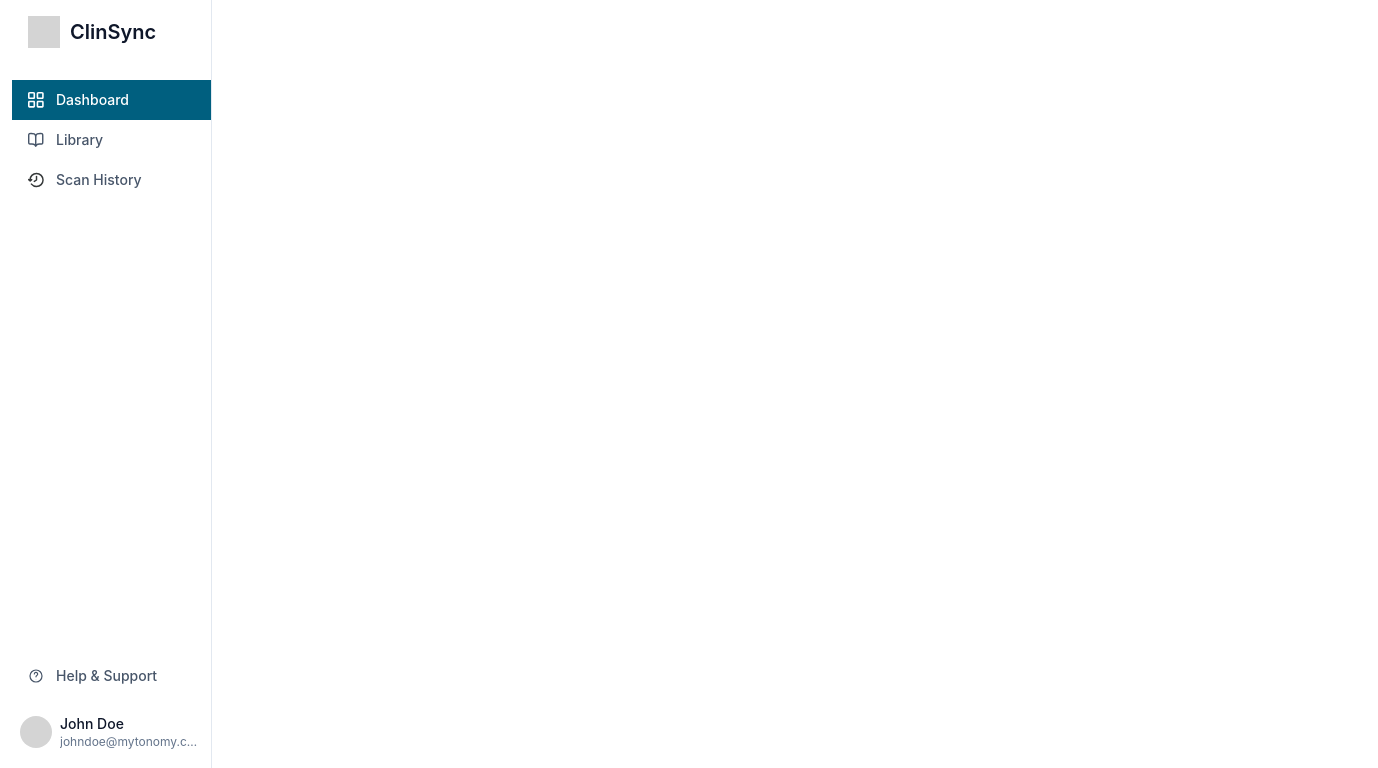
Scenario: Sidebar › opens the account menu and closes it from Settings or the backdrop
Click the button titled "Account": x=112, y=732 [12, 708, 211, 756]
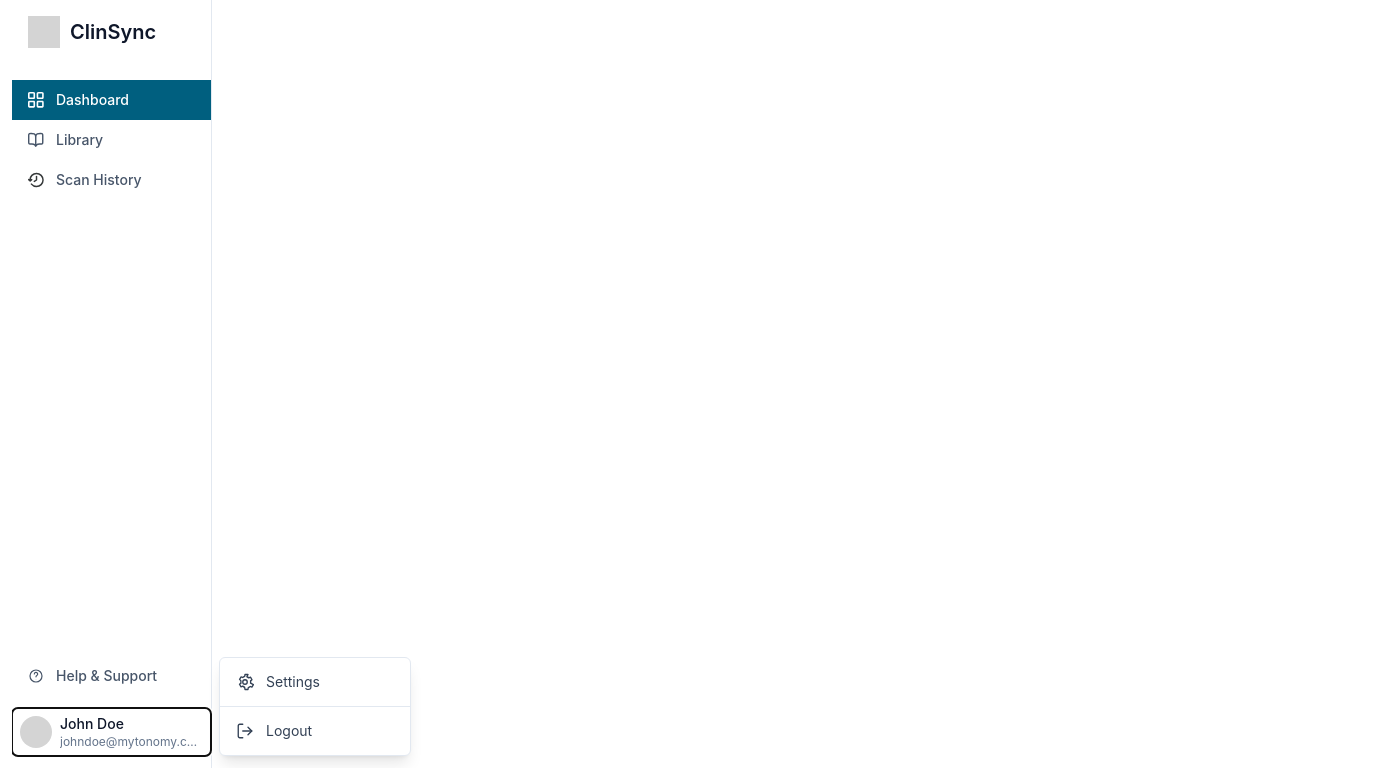
Click the link "Settings": x=278, y=682 [236, 673, 320, 691]
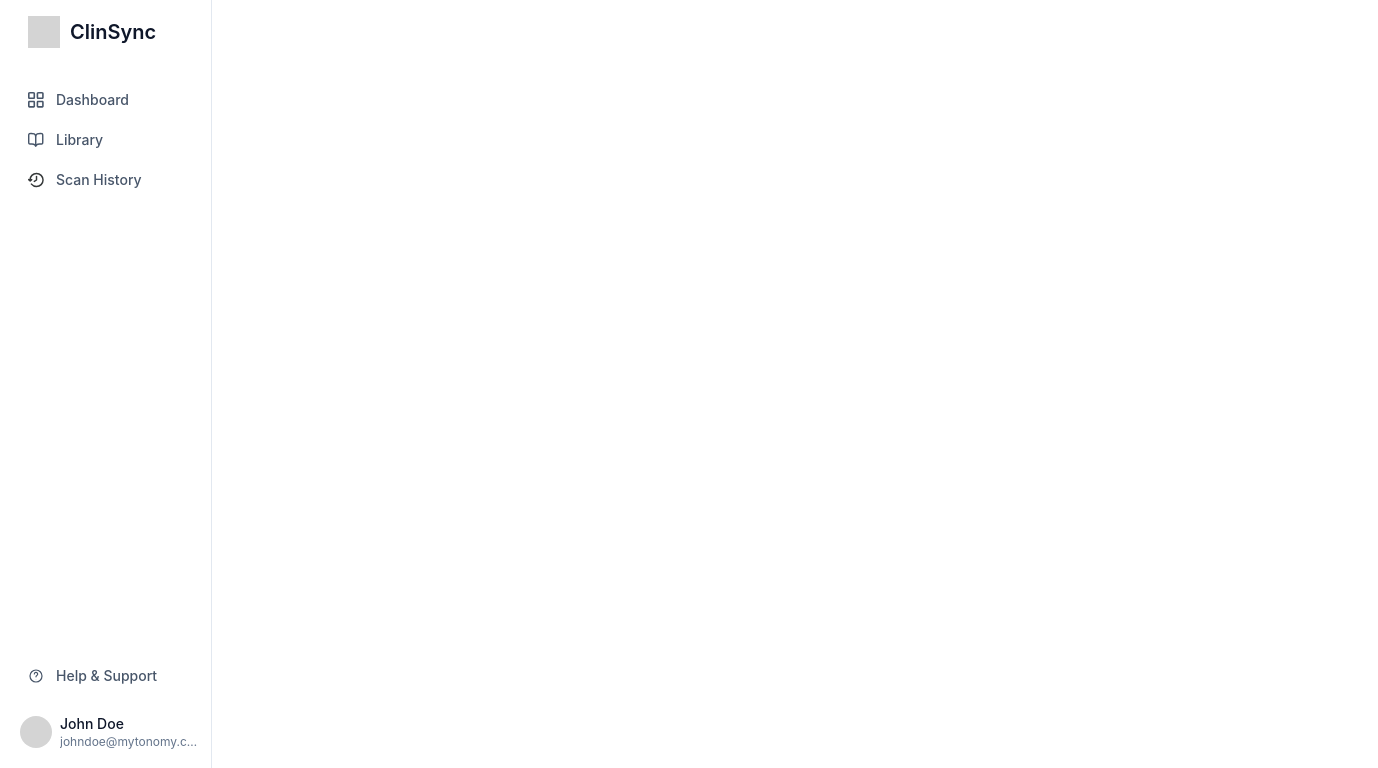
Now the link "Settings" is gone
Click the button titled "Account": x=112, y=732 [12, 708, 211, 756]
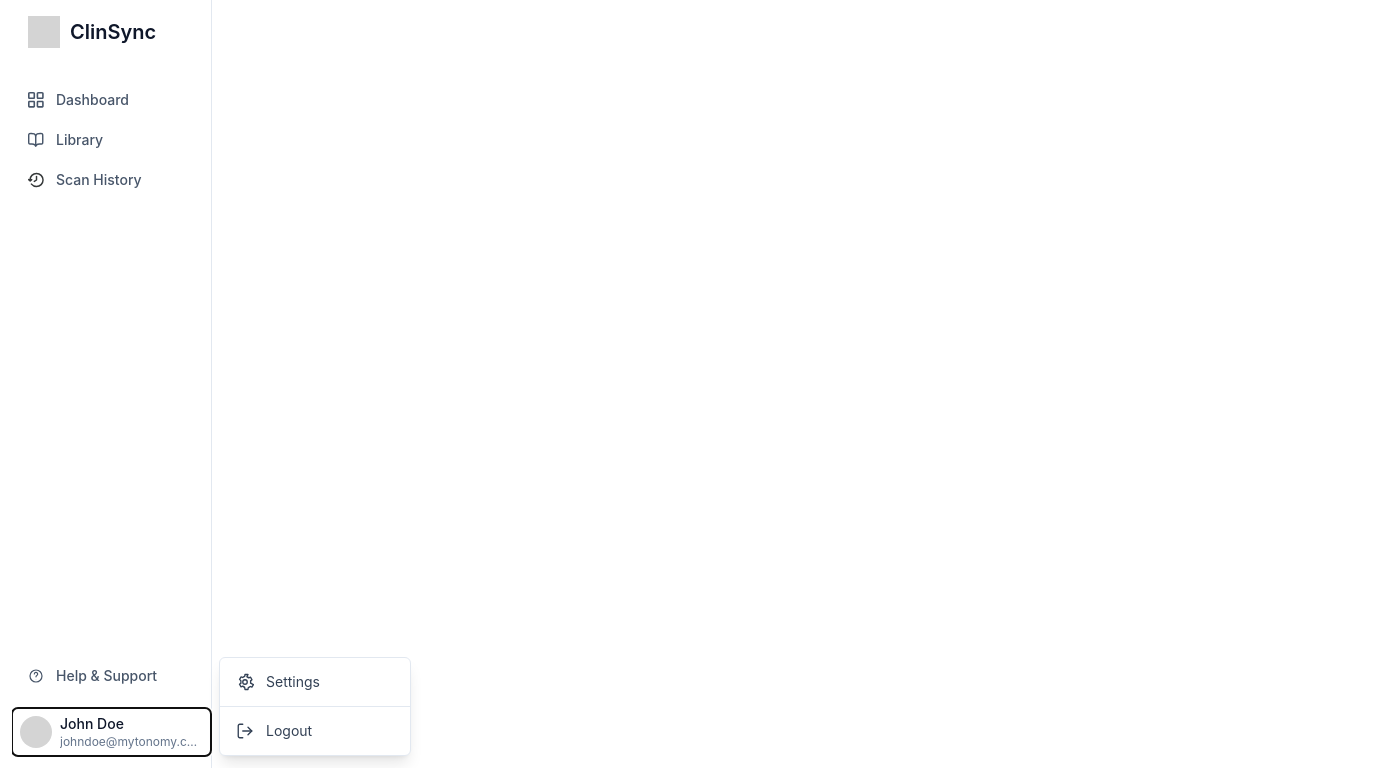
Click the element with class "inset-0": x=695, y=384 [12, 0, 1377, 767]
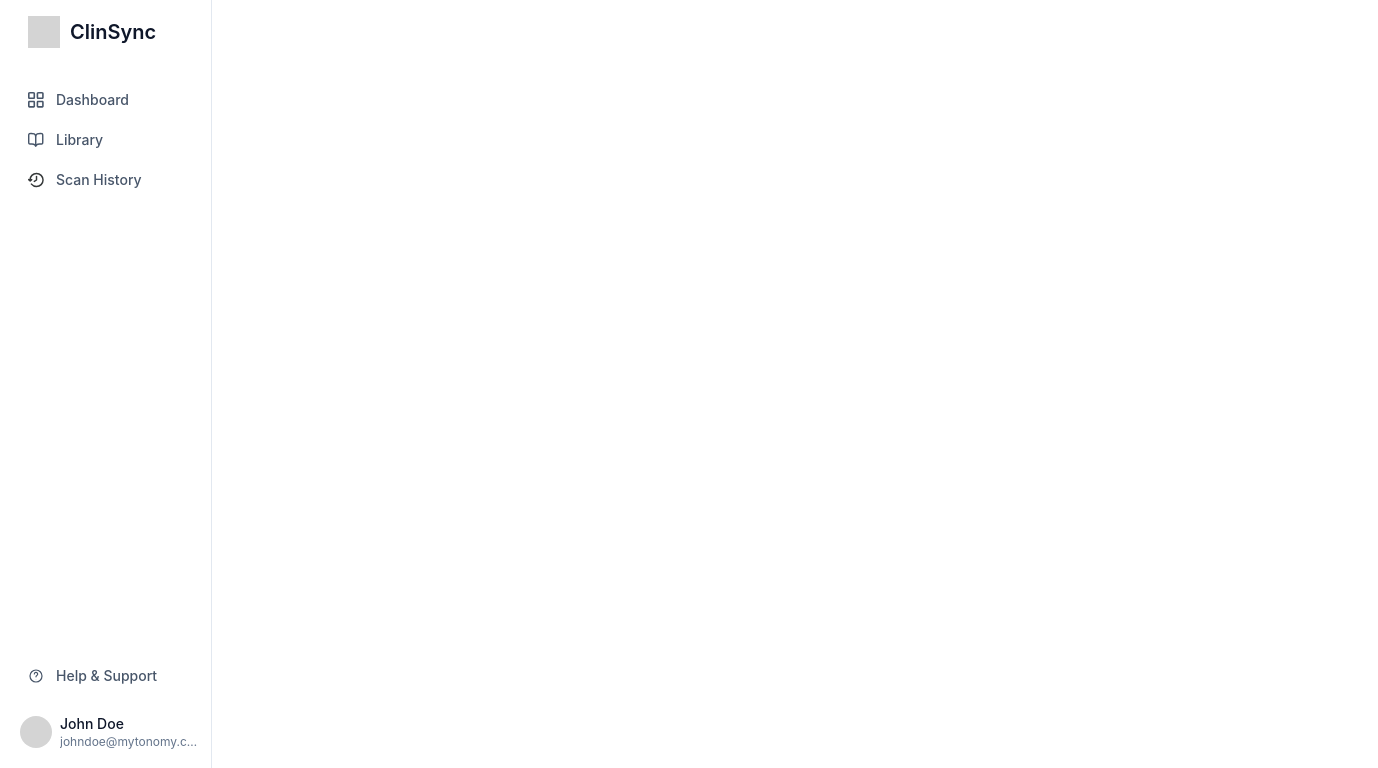
Now the button "Logout" is gone
